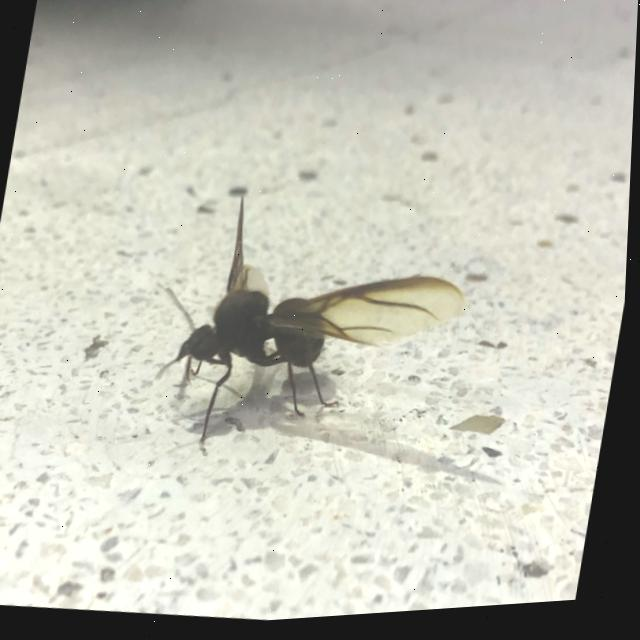Alive-Female-Alate: (141, 178, 482, 481)
